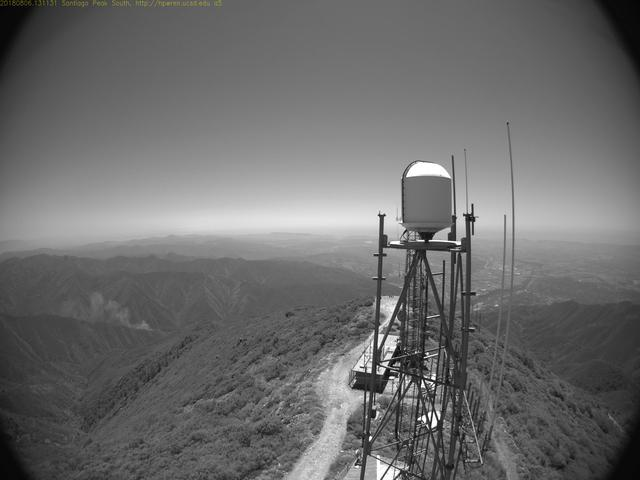smoke: (42, 286, 154, 335)
